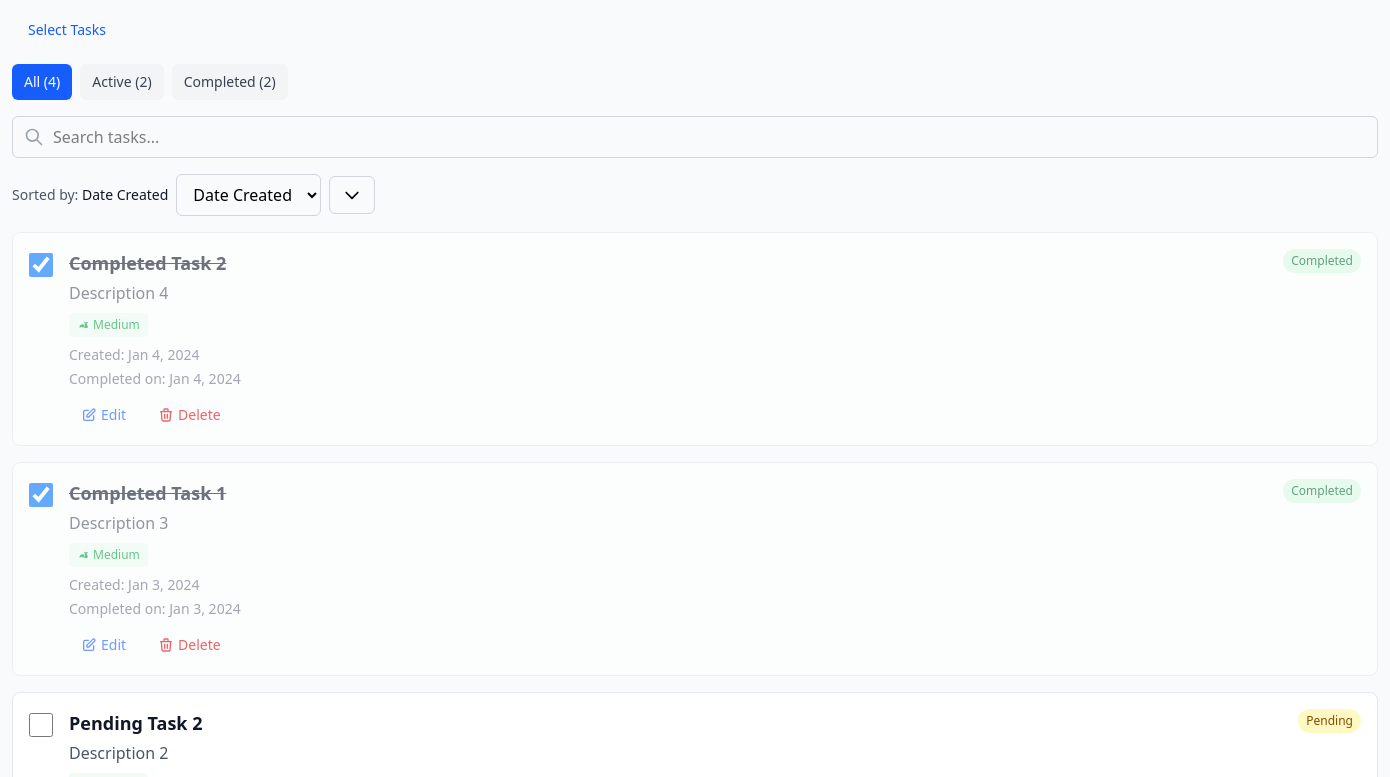
Test case: User Story 2.2: Filter Tasks UI › Filter Interaction › should filter to show only active tasks when Active is clicked
Click the button with aria-label "active tasks" at (122, 82), box [80,64,164,100]
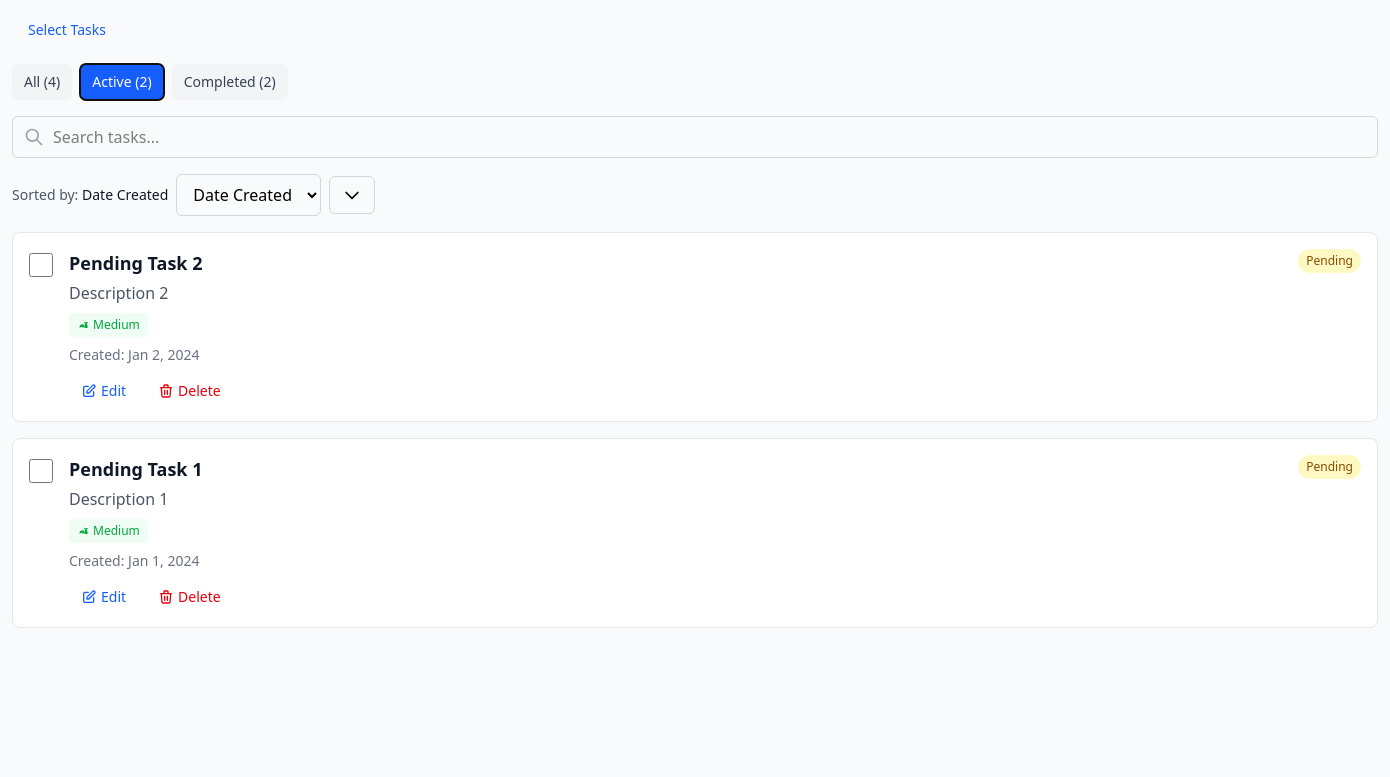
Expected: the heading "Pending Task 1" is shown, [69,455,202,483]
Now the heading "Completed Task 1" is gone
Now the heading "Completed Task 2" is gone
